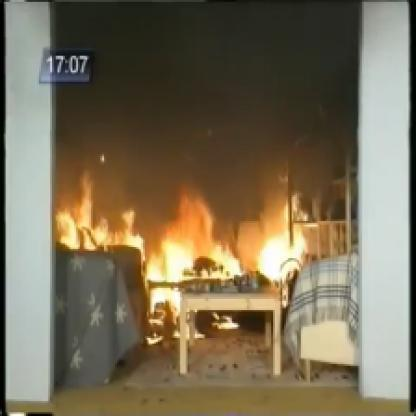fire: (143, 187, 236, 310), (239, 207, 335, 294), (54, 175, 142, 268), (139, 297, 168, 351), (210, 308, 241, 342)
